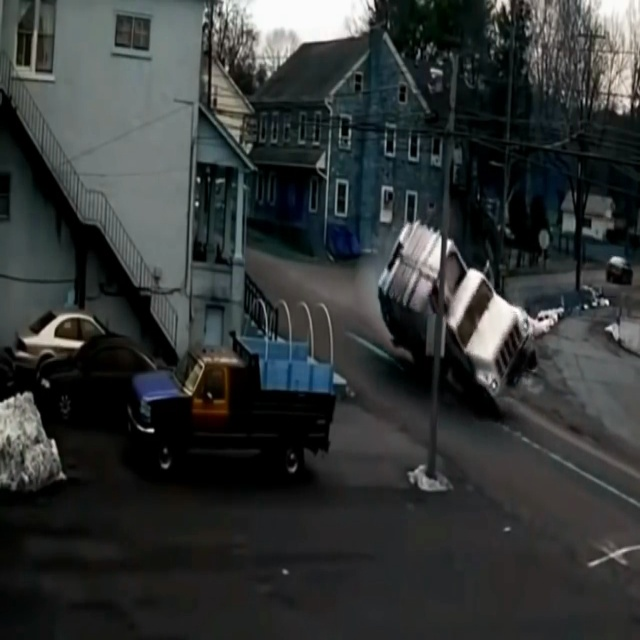acc: (364, 218, 542, 414)
